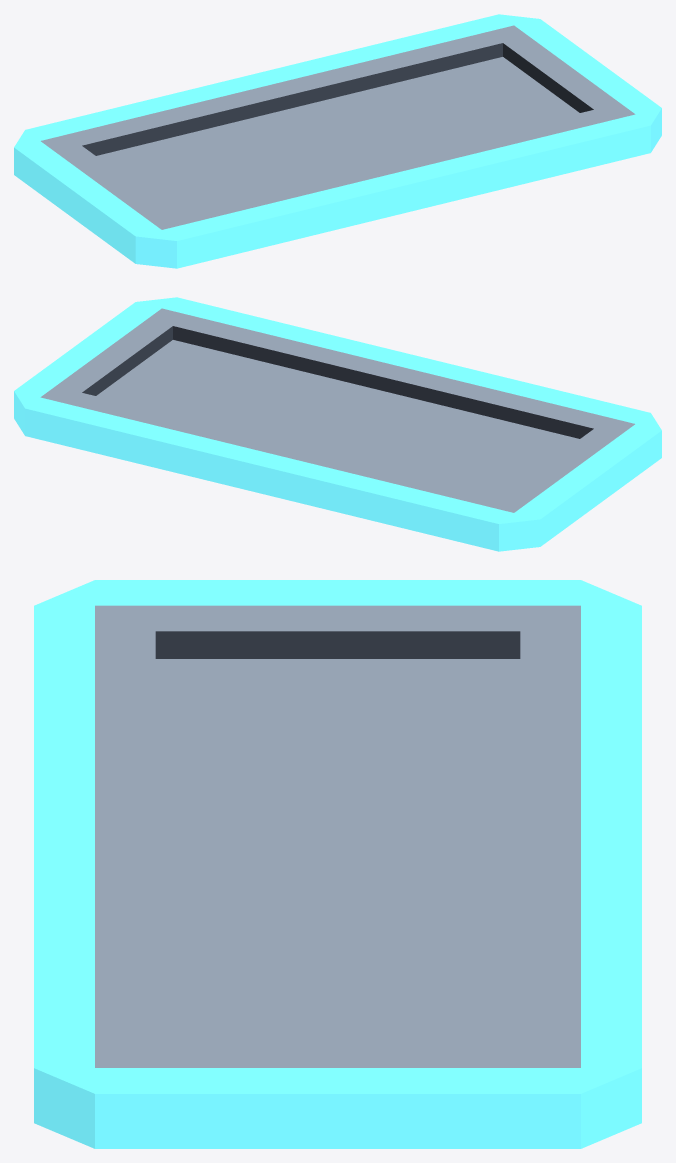
File: platform_long.glb
3 views of the same model, one above another, from view 1: azimuth 30°, elevation 25°; view 2: azimuth 150°, elevation 25°; view 3: azimuth 270°, elevation 25° (orthographic). The views are drawn at different scales.
Parts seen in each view (by area): view 1: platform_long; view 2: platform_long; view 3: platform_long.
Boxes of the visible parts, <box> form: platform_long: <box>14,14,661,268</box>; platform_long: <box>14,297,661,551</box>; platform_long: <box>34,580,641,1148</box>.
Bounding box in the file's own units: 2 × 0.1 × 1.
